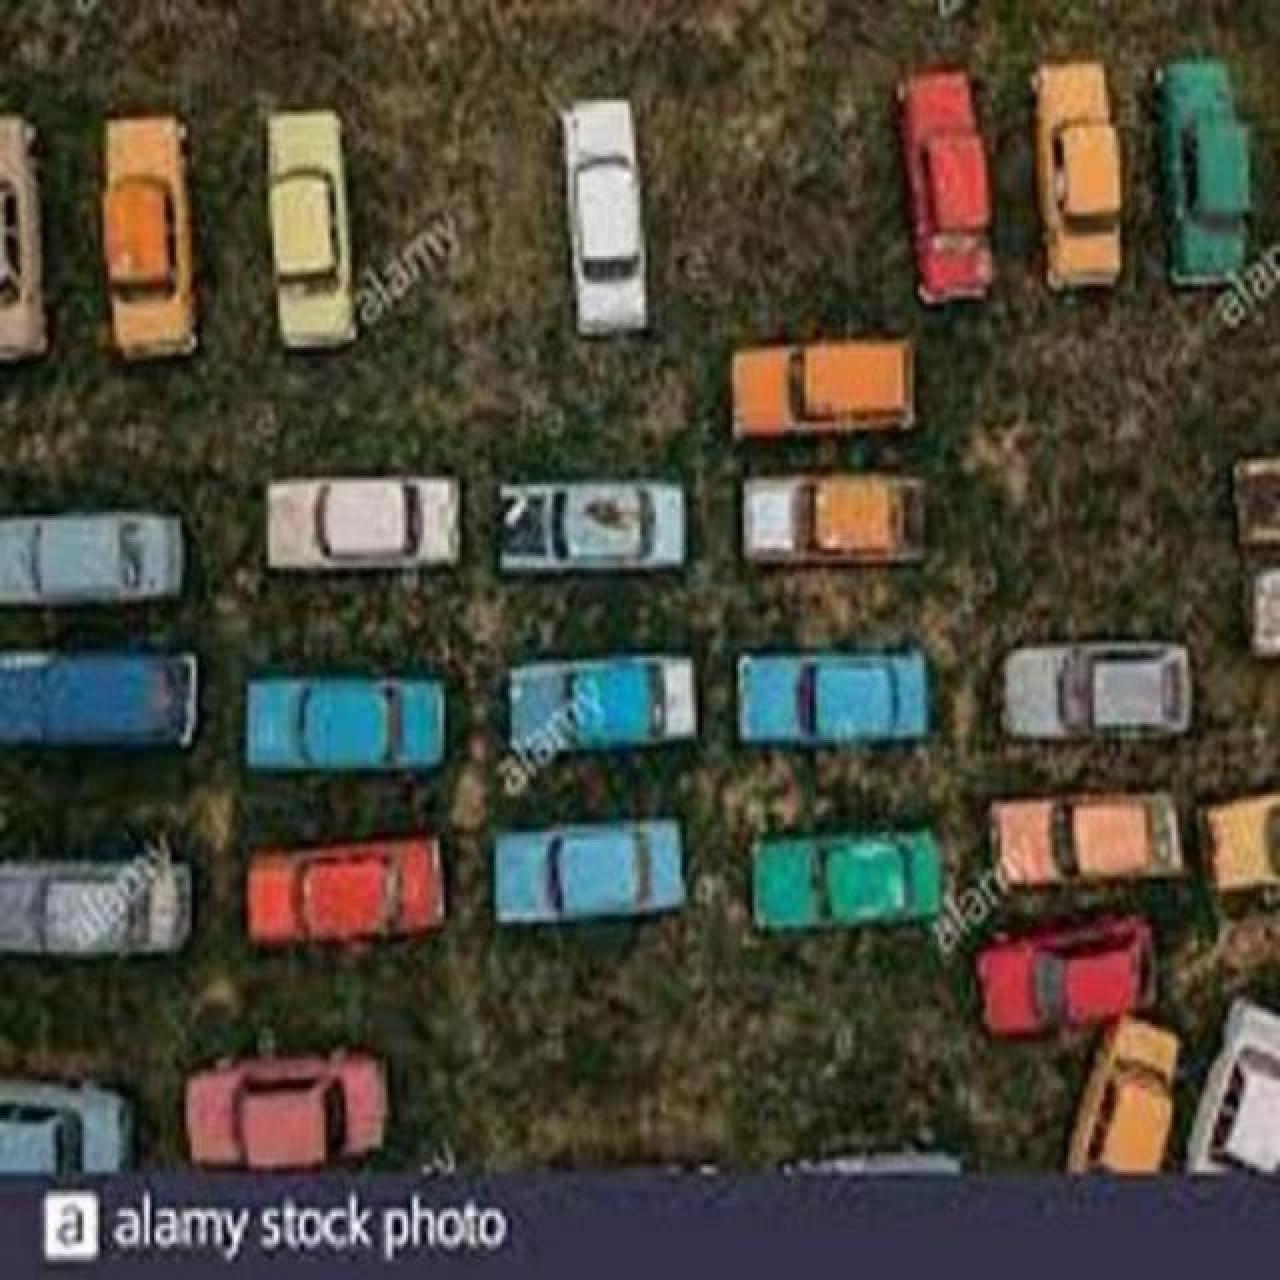car: (182, 1042, 390, 1172), (98, 110, 200, 362), (890, 66, 996, 306), (1150, 50, 1254, 288), (972, 910, 1158, 1040), (263, 105, 358, 350), (244, 835, 445, 948), (0, 842, 192, 960), (1030, 54, 1124, 292), (748, 821, 944, 932), (558, 96, 648, 338), (0, 646, 198, 753), (490, 816, 686, 924), (504, 652, 697, 760), (241, 672, 445, 774), (986, 790, 1189, 888), (998, 640, 1192, 742), (734, 646, 930, 745), (728, 336, 915, 440), (1064, 1012, 1182, 1176), (264, 474, 462, 570), (0, 508, 184, 608), (493, 478, 686, 574), (1184, 996, 1278, 1186), (738, 472, 928, 566), (0, 1070, 136, 1180), (0, 110, 48, 366), (1196, 788, 1278, 915), (778, 1141, 964, 1178), (1232, 452, 1278, 552), (1246, 558, 1278, 662)
